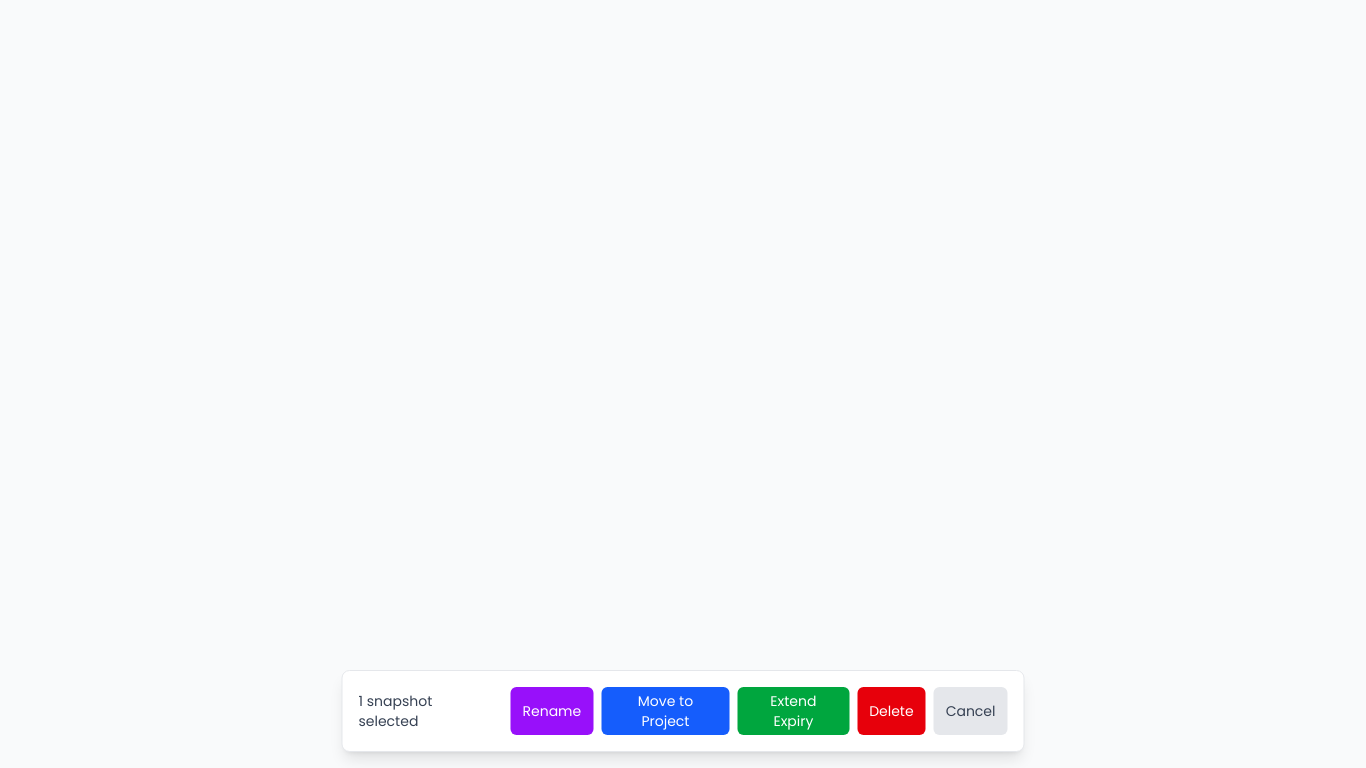
BulkOperations Component › Bulk Move › shows move dialog when move button is clicked
What coordinates should you click on to do the following:
click the button "Move to Project"
I would click on:
 (665, 711)
Its box is [601,687,730,735].
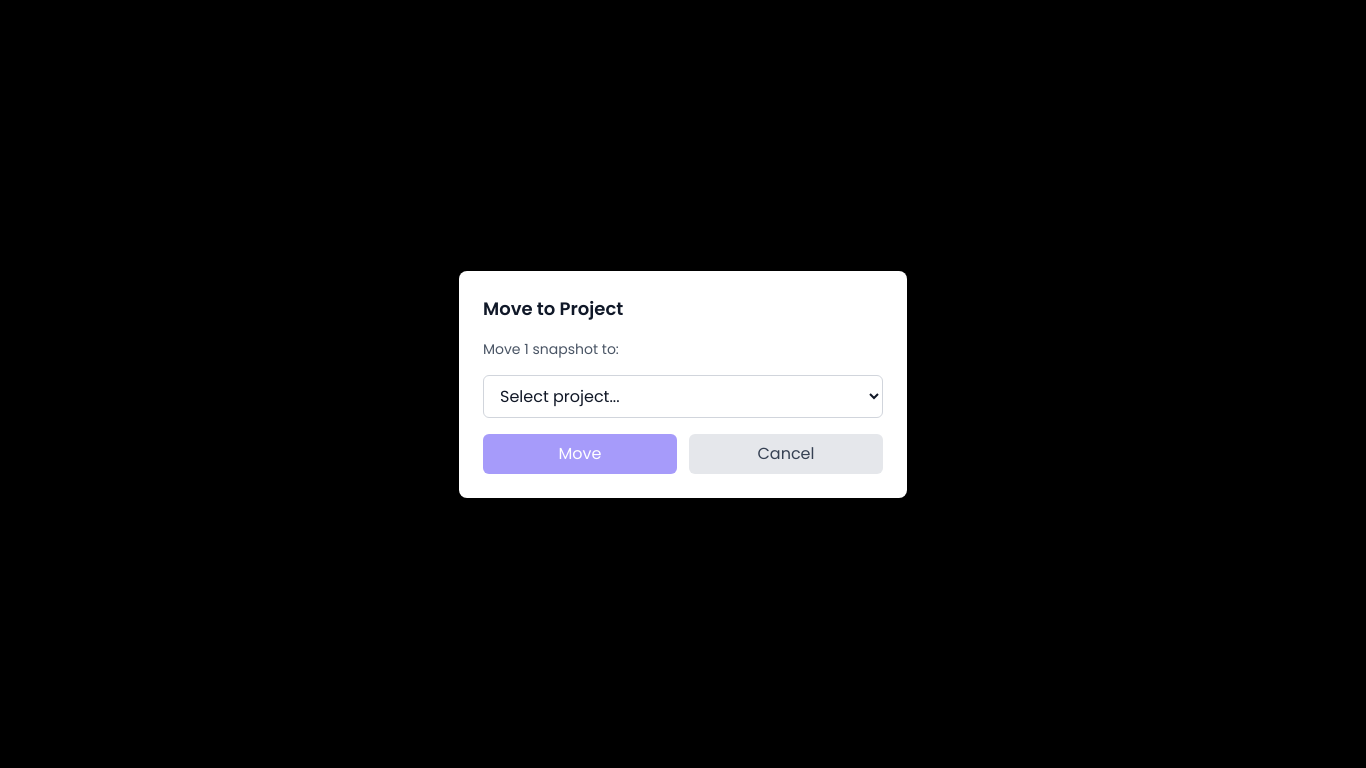
Result: the heading "Move to Project" is shown at [483,296,623,320]
Result: the text "Move 1 snapshot to:" is shown at [483,338,619,358]
